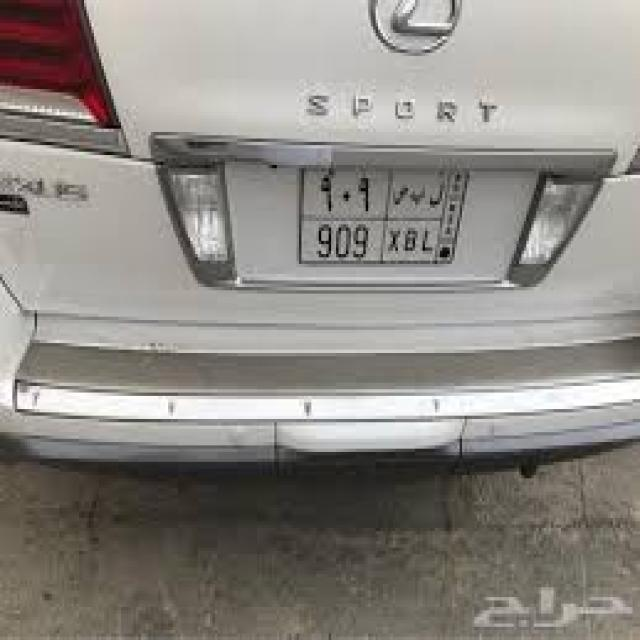license_plate: (296, 158, 472, 268)
